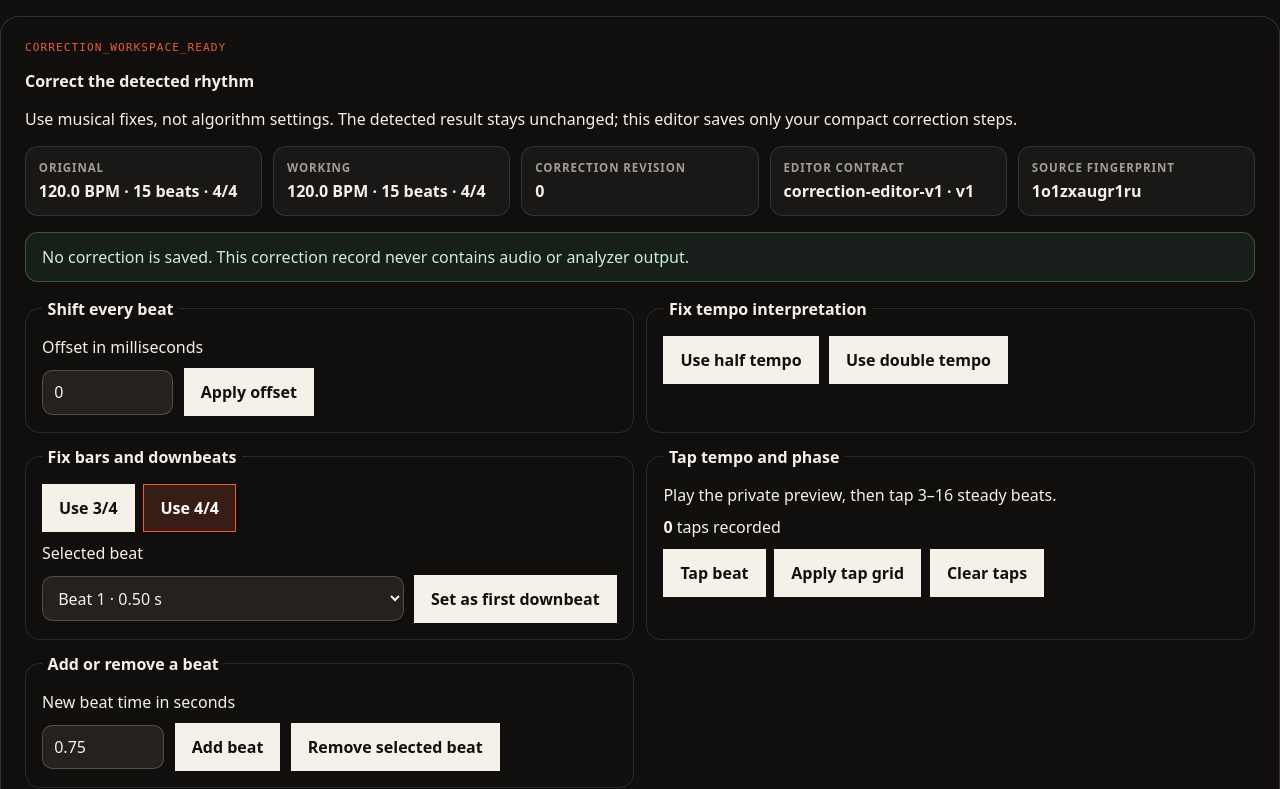
Test case: rhythm correction workspace › keeps revision and storage unchanged for invalid edits
Step 1. Replace the text in the number field labelled "New beat time in seconds" with "1" → (103, 747), box [42,724,164,769]
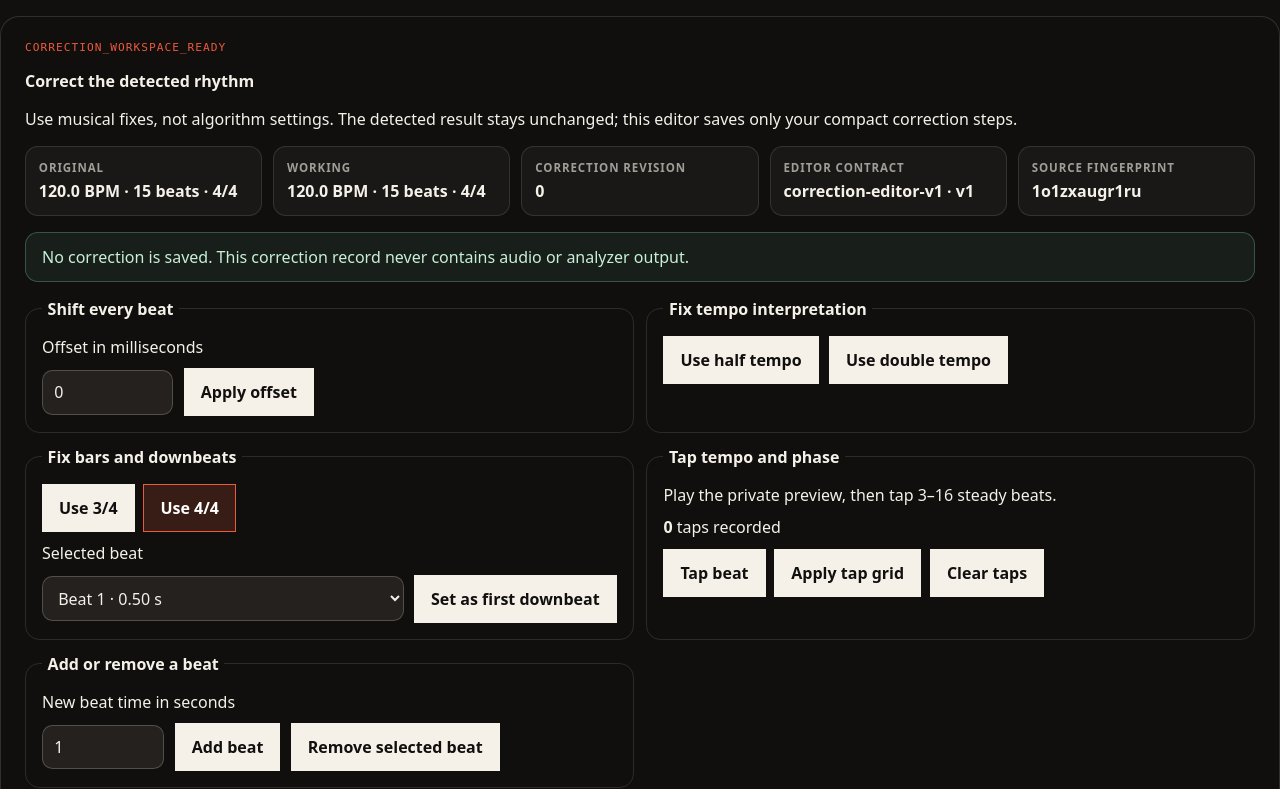
Step 2. Click the button "Add beat" → (228, 747), box [175,723,280,771]
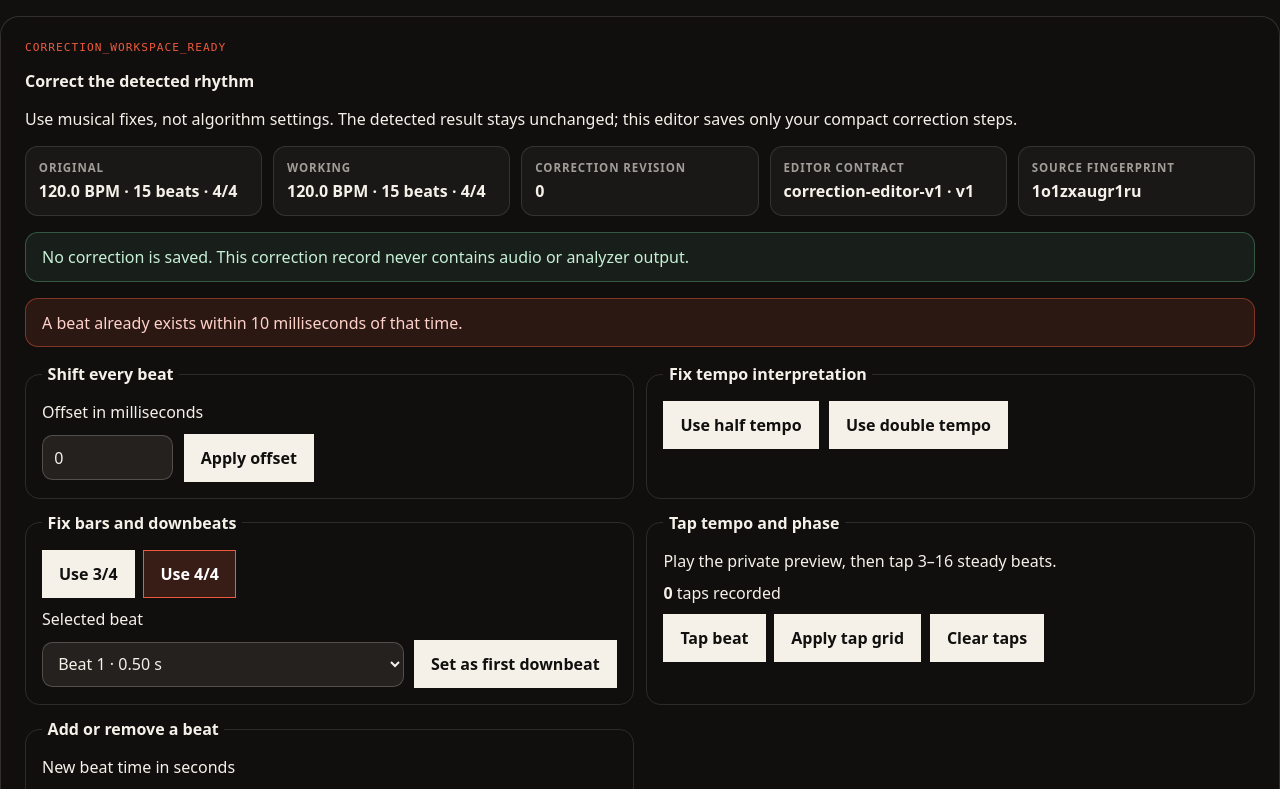
Check: the message "A beat already exists within 10 milliseconds of that time." is shown, box [25,298,1255,347]
